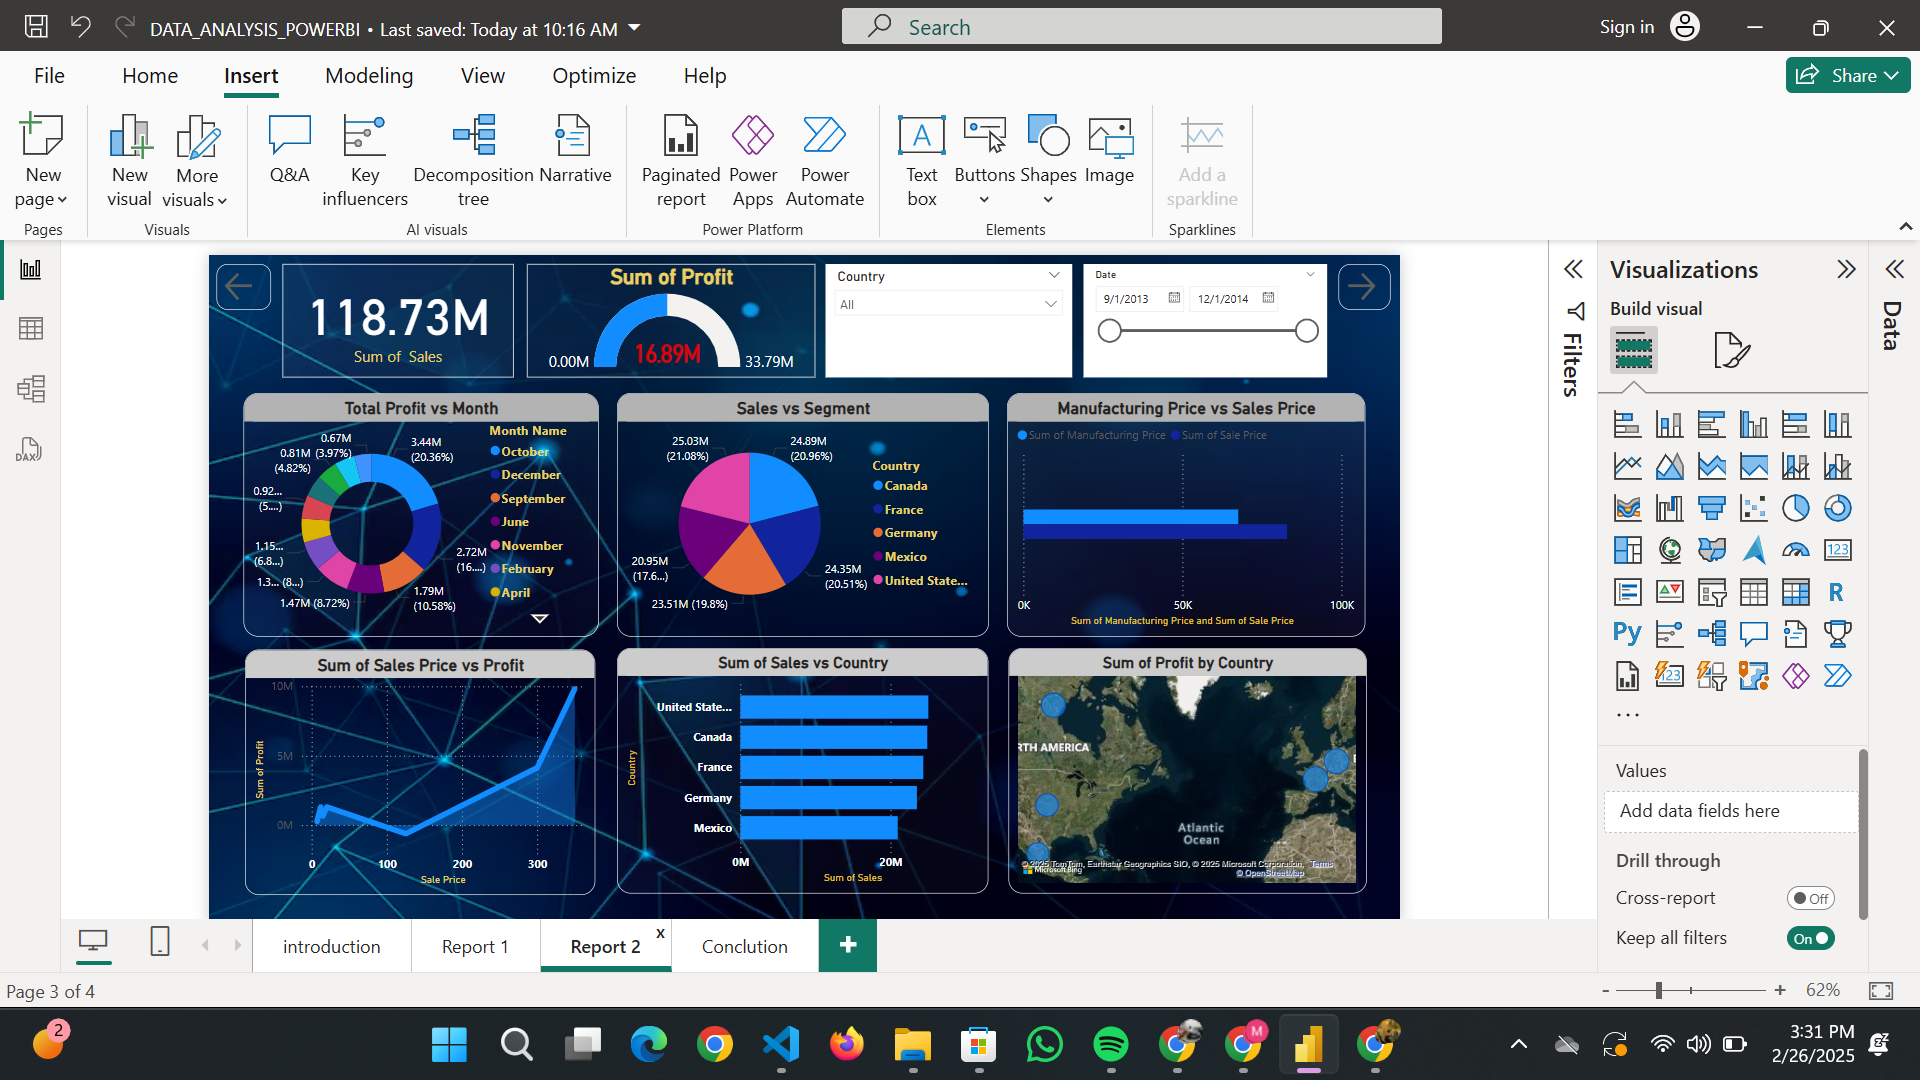

What the dashboard file says about the page in this screenshot:
{"tool":"powerbi","page":{"name":"Report 2","canvas":[1280,720],"ordinal":2},"visuals":[{"type":"donutChart","title":"Total Profit vs Month","fields":{"Category":["financials.Month Name"],"Y":["Sum(financials.Profit)"]},"box":[36.7,148.3,381.7,261.7],"z":0},{"type":"pieChart","title":"Sales vs Segment","fields":{"Y":["Sum(financials. Sales)"],"Series":["financials.Country"]},"box":[438.3,148.3,400,261.7],"z":1000},{"type":"clusteredBarChart","title":"Manufacturing Price vs Sales Price ","fields":{"Y":["Sum(financials.Manufacturing Price)","Sum(financials.Sale Price)"]},"box":[858.3,148.3,385,261.7],"z":2000},{"type":"areaChart","title":"Sum of Sales Price vs Profit","fields":{"Category":["financials.Sale Price"],"Y":["Sum(financials.Profit)"]},"box":[38.2,424.7,377,264],"z":3000},{"type":"clusteredBarChart","title":"Sum of  Sales vs Country","fields":{"Category":["financials.Country"],"Y":["Sum(financials. Sales)"]},"box":[439,423.1,399.2,264],"z":4000},{"type":"actionButton","box":[1215.2,9.5,55.7,49.3],"z":5000},{"type":"map","fields":{"Category":["financials.Country"],"Size":["Sum(financials.Profit)"]},"box":[859,423,385,264],"z":6000},{"type":"card","fields":{"Values":["Sum(financials. Sales)"]},"box":[78.3,10,248.3,121.7],"z":7000},{"type":"gauge","fields":{"Y":["Sum(financials.Profit)"]},"box":[341.7,10,310,121.7],"z":8000},{"type":"slicer","fields":{"Values":["financials.Country"]},"box":[663.3,10,265,121.7],"z":9000},{"type":"slicer","fields":{"Values":["financials.Date"]},"box":[940,10,261.7,121.7],"z":10000},{"type":"actionButton","box":[8,9.5,58.9,49.3],"z":11000}]}

Visuals, with their boxes on the page's 1280x720 design canvas (x1, y1, x2, y2). These are canvas units, not pixel positions in the 1920x1080 screenshot, which may show the page scaled, cropped or inside an application window:
"Total Profit vs Month" donutChart: left=37, top=148, right=418, bottom=410
"Sales vs Segment" pieChart: left=438, top=148, right=838, bottom=410
"Manufacturing Price vs Sales Price " clusteredBarChart: left=858, top=148, right=1243, bottom=410
"Sum of Sales Price vs Profit" areaChart: left=38, top=425, right=415, bottom=689
"Sum of  Sales vs Country" clusteredBarChart: left=439, top=423, right=838, bottom=687
actionButton: left=1215, top=10, right=1271, bottom=59
map - financials.Country x Sum(financials.Profit): left=859, top=423, right=1244, bottom=687
card - Sum(financials. Sales): left=78, top=10, right=327, bottom=132
gauge - Sum(financials.Profit): left=342, top=10, right=652, bottom=132
slicer - financials.Country: left=663, top=10, right=928, bottom=132
slicer - financials.Date: left=940, top=10, right=1202, bottom=132
actionButton: left=8, top=10, right=67, bottom=59
